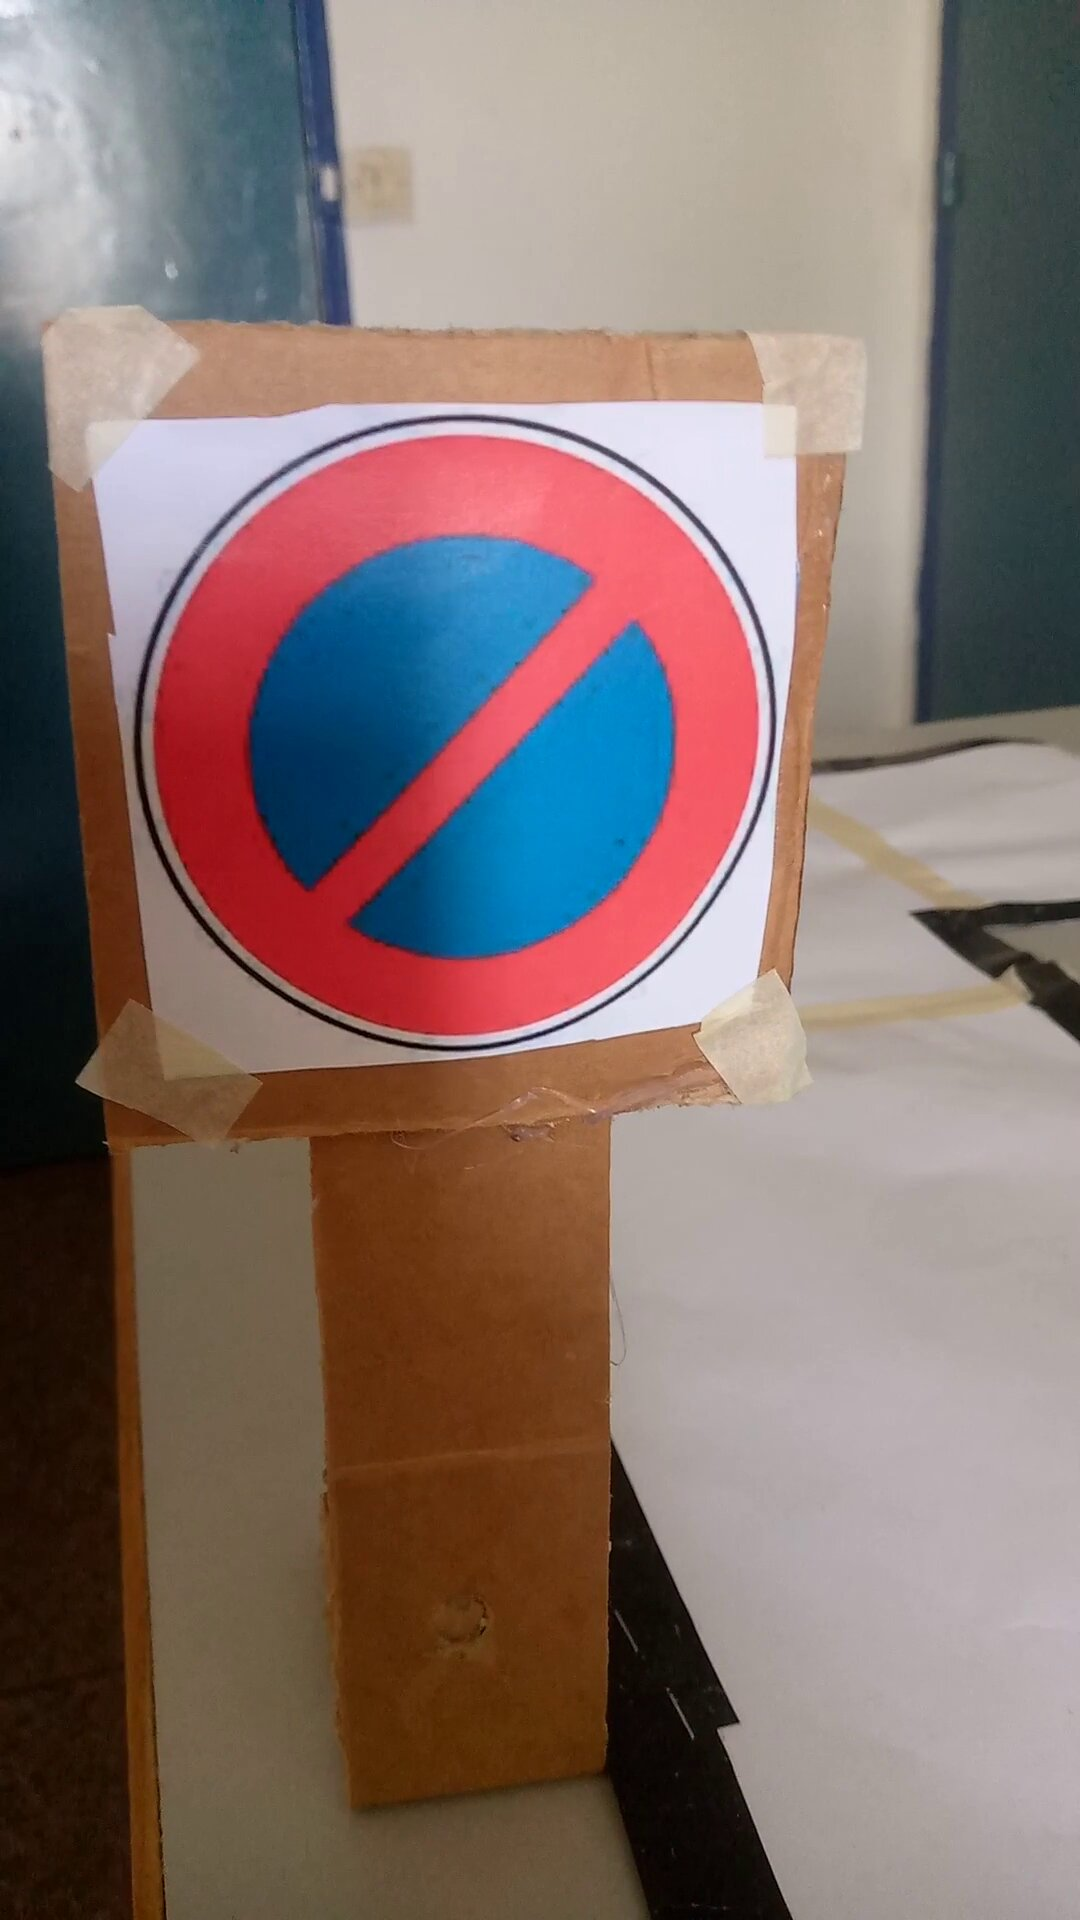panel110: (94, 414, 781, 1023)
